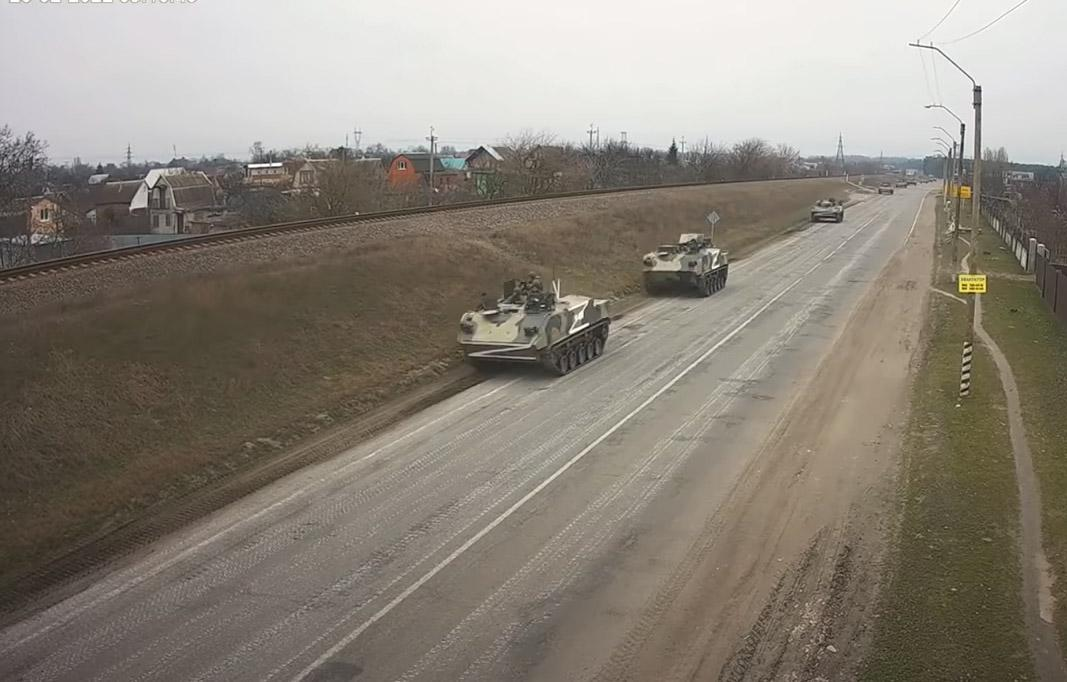tank: (455, 269, 611, 384), (635, 239, 742, 307), (809, 195, 846, 226), (877, 180, 894, 195), (894, 177, 908, 189)
